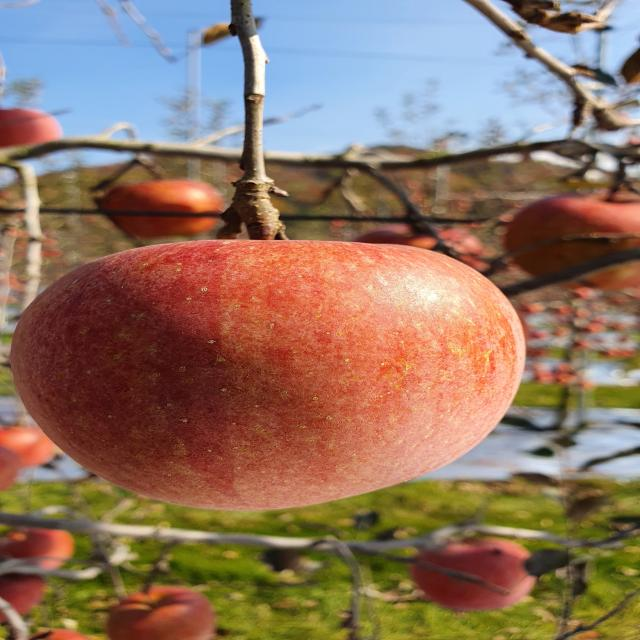fresh: (10, 232, 541, 516)
